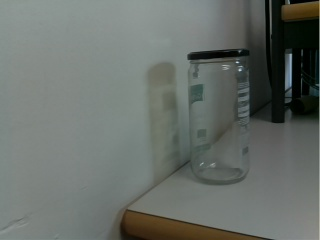pote cristal: (185, 47, 254, 186)
